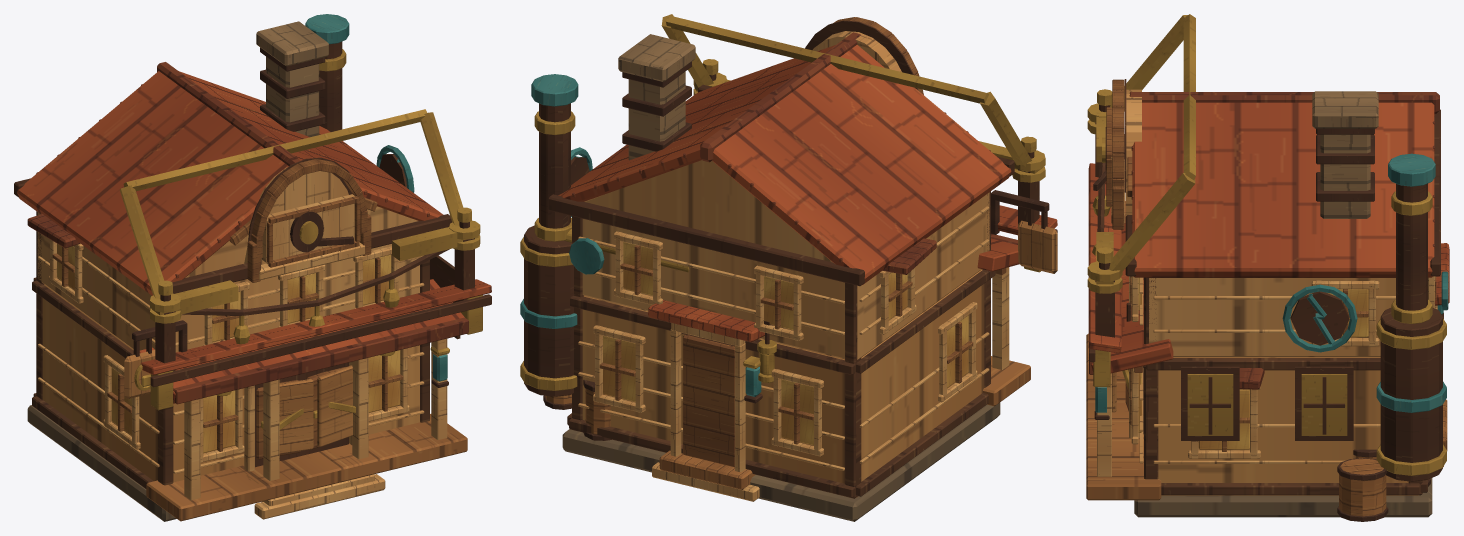
Rendered from tavern.e3.glb.
3 views of the same model, side by side, from view 1: azimuth 30°, elevation 25°; view 2: azimuth 150°, elevation 25°; view 3: azimuth 270°, elevation 25° (orthographic). The views are drawn at different scales.
Parts seen in each view (by area): view 1: TownTavernE3; view 2: TownTavernE3; view 3: TownTavernE3.
Part boxes in pixels (x1,y1,x2,y2): TownTavernE3: (14,14,491,521); TownTavernE3: (520,14,1057,521); TownTavernE3: (1086,14,1449,521).
Size of the model in its own units: 4.23 by 3.96 by 3.35.
Materials: 1 (1 with a texture image).
